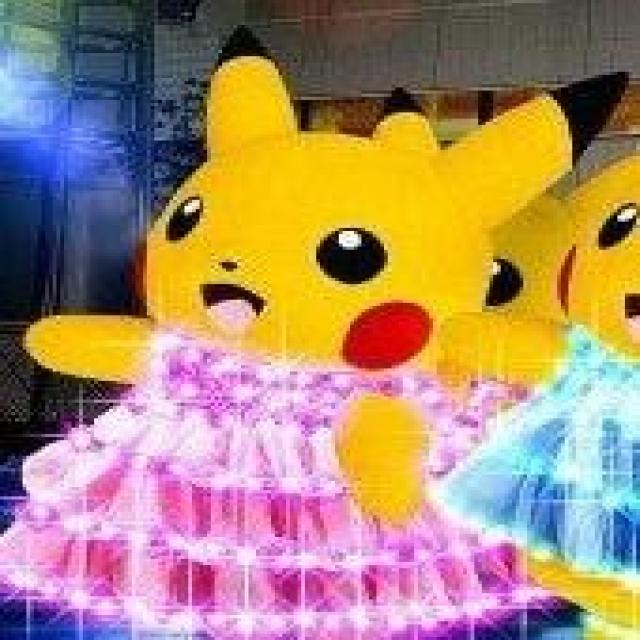pikachu: (142, 23, 626, 370)
